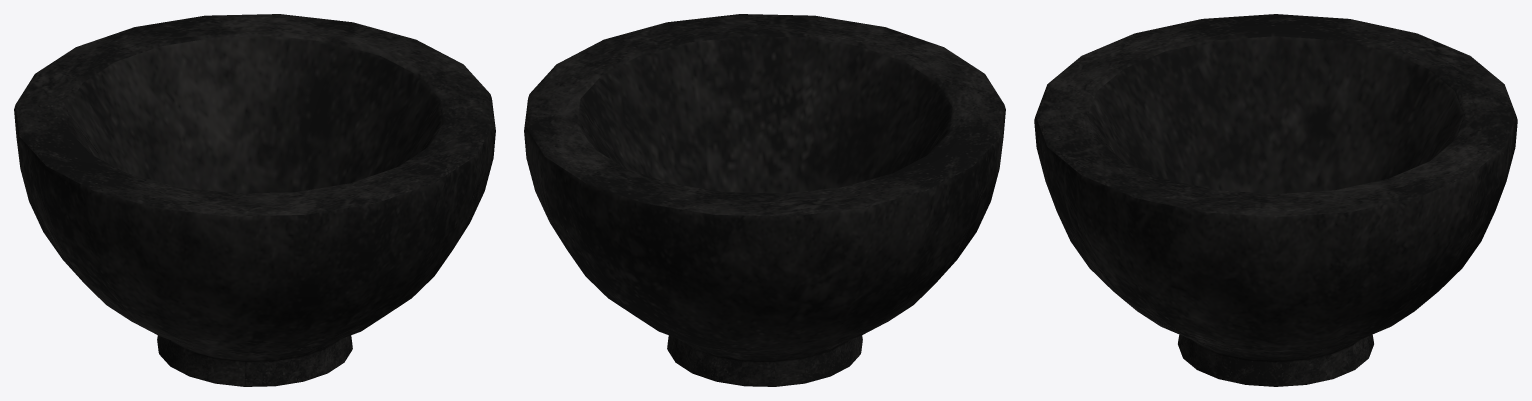
The model's file is mortal.fbx.
3 views of the same model, side by side, from view 1: azimuth 30°, elevation 25°; view 2: azimuth 150°, elevation 25°; view 3: azimuth 270°, elevation 25° (orthographic).
Visible parts, largest first — view 1: Mortal; view 2: Mortal; view 3: Mortal.
Boxes of the visible parts, x1,y1,x2,y2 form: Mortal: (14,14,495,386); Mortal: (524,14,1005,386); Mortal: (1034,14,1517,386).
Size of the model in its own units: 27.93 by 14.85 by 27.93.
1 material, 1 textured.
